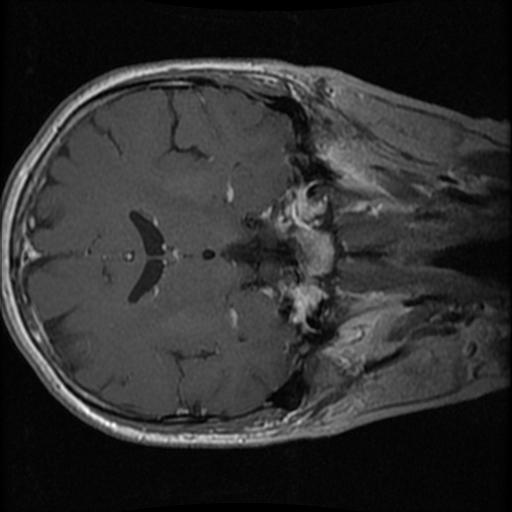pituitary tumour: (294, 226, 333, 278)
